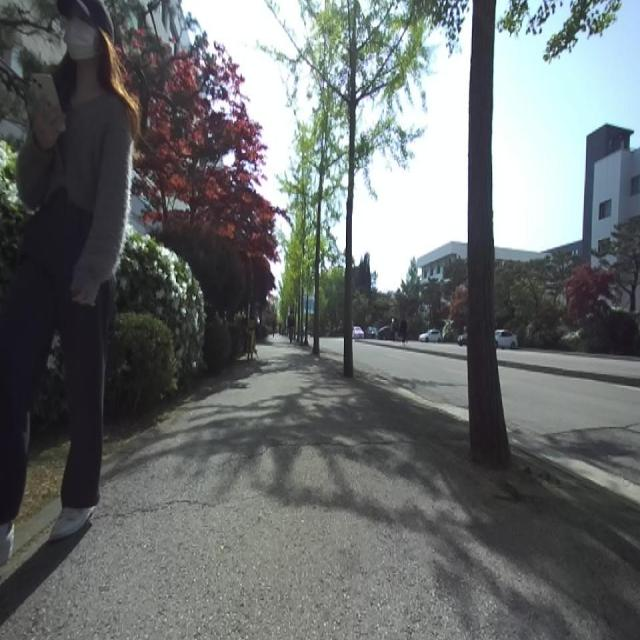sidewalk: (0, 338, 640, 639)
